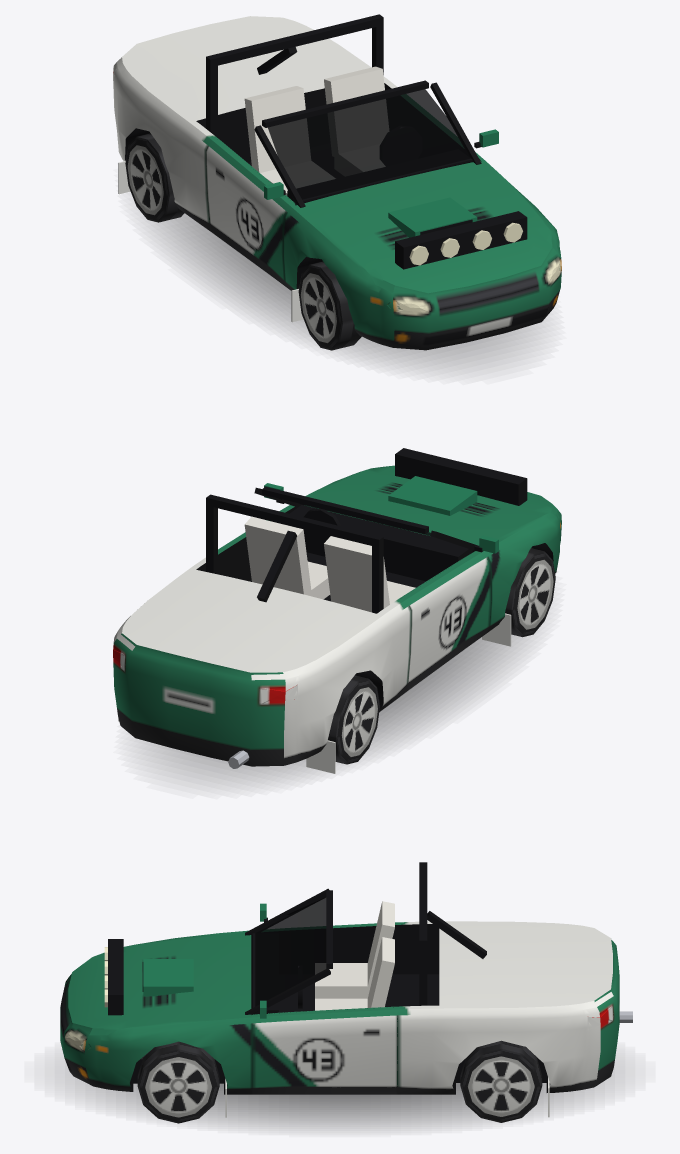
Rendered from rajada.glb.
3 renders of one model, top to bottom at view 1: azimuth 30°, elevation 25°; view 2: azimuth 150°, elevation 25°; view 3: azimuth 270°, elevation 25°, orthographic. The views are drawn at different scales.
Visible parts, largest first — view 1: Carroceria, Capo_malha, Tampa_malha, Sombra, Porta_D_malha, Roda_DD, Roda_TD, Porta_E_malha, Farol; view 2: Carroceria, Tampa_malha, Capo_malha, Sombra, Porta_D_malha, Roda_TD, Roda_DD, Porta_E_malha; view 3: Carroceria, Tampa_malha, Capo_malha, Sombra, Porta_E_malha, Roda_TE, Roda_DE, Porta_D_malha.
Part boxes in pixels (x1=…): Carroceria: x1=113, y1=14, x2=561, y2=350; Capo_malha: x1=305, y1=168, x2=557, y2=293; Tampa_malha: x1=117, y1=16, x2=365, y2=118; Sombra: x1=150, y1=213, x2=536, y2=369; Porta_D_malha: x1=205, y1=146, x2=286, y2=280; Roda_DD: x1=298, y1=261, x2=361, y2=350; Roda_TD: x1=125, y1=133, x2=184, y2=222; Porta_E_malha: x1=399, y1=96, x2=498, y2=157; Farol: x1=387, y1=261, x2=560, y2=314; Carroceria: x1=113, y1=470, x2=561, y2=773; Tampa_malha: x1=117, y1=530, x2=372, y2=680; Capo_malha: x1=311, y1=448, x2=557, y2=542; Sombra: x1=143, y1=635, x2=528, y2=783; Porta_D_malha: x1=408, y1=535, x2=498, y2=681; Roda_TD: x1=328, y1=675, x2=379, y2=764; Roda_DD: x1=505, y1=548, x2=555, y2=637; Porta_E_malha: x1=218, y1=483, x2=296, y2=581; Carroceria: x1=60, y1=862, x2=632, y2=1117; Tampa_malha: x1=427, y1=911, x2=613, y2=1009; Capo_malha: x1=73, y1=934, x2=236, y2=1035; Sombra: x1=65, y1=1062, x2=614, y2=1128; Porta_E_malha: x1=252, y1=1000, x2=398, y2=1087; Roda_TE: x1=460, y1=1040, x2=542, y2=1122; Roda_DE: x1=137, y1=1041, x2=219, y2=1123; Porta_D_malha: x1=260, y1=903, x2=398, y2=974.
Bounding box in the file's own units: 2.42 × 1.45 × 4.93.
Materials: 14 (5 with a texture image).
